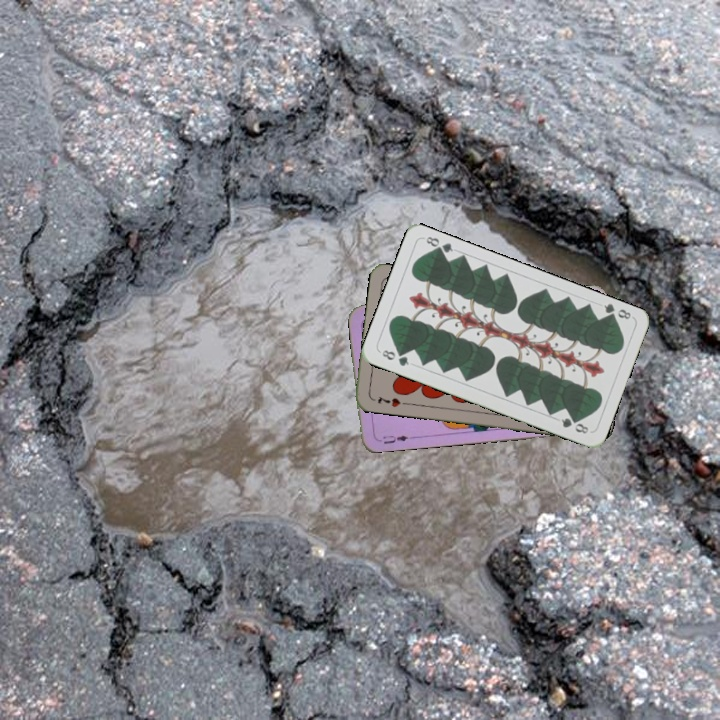EU: (373, 431, 414, 446)
G8: (600, 300, 633, 324), (378, 346, 412, 369)
H7: (373, 392, 403, 410)
